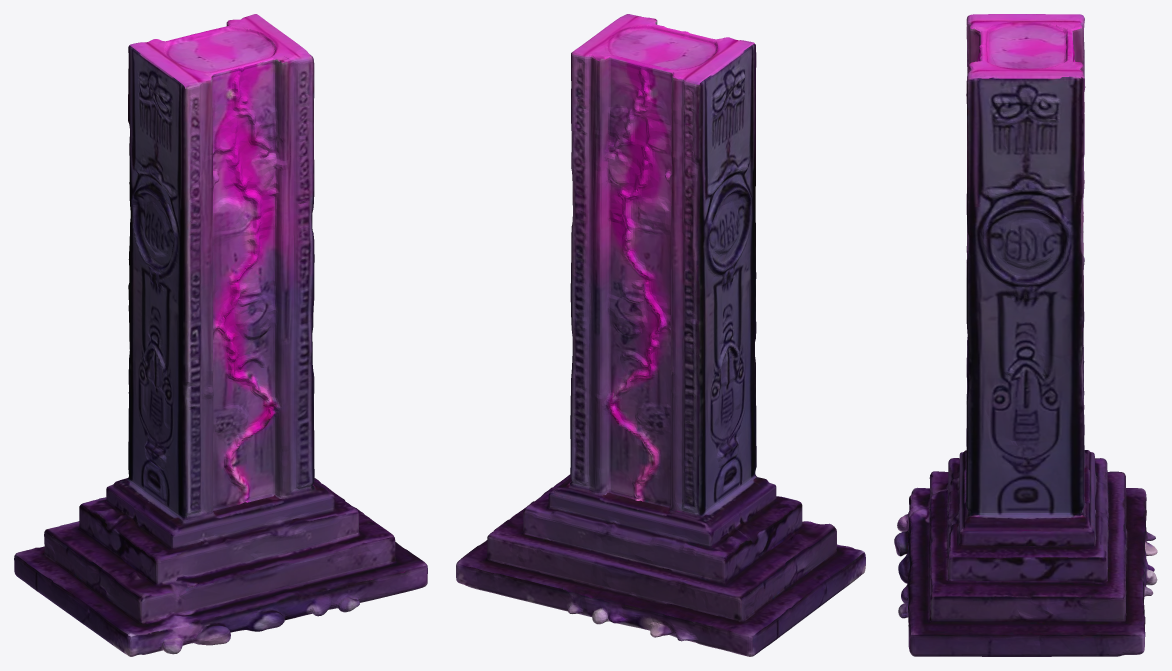
File: weathered-monolith-pillar-generated-2026-04-19T23-27-04-251Z.medium.glb
3 views of the same model, side by side, from view 1: azimuth 30°, elevation 25°; view 2: azimuth 150°, elevation 25°; view 3: azimuth 270°, elevation 25° (orthographic).
Parts seen in each view (by area): view 1: temp_mesh.ply; view 2: temp_mesh.ply; view 3: temp_mesh.ply.
Boxes of the visible parts, x1,y1,x2,y2 form: temp_mesh.ply: (14,14,427,656); temp_mesh.ply: (456,14,865,656); temp_mesh.ply: (894,14,1157,656).
Bounding box in the file's own units: 1.17 × 1.97 × 0.8741.
1 material, 1 textured.
